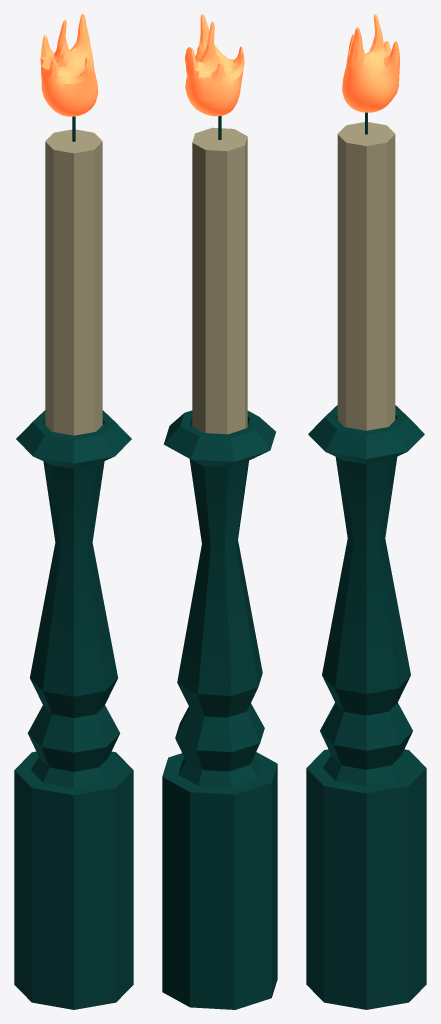
Rendered from Candelabro 3.fbx.
3 views of the same model, side by side, from view 1: azimuth 90°, elevation 25°; view 2: azimuth 150°, elevation 25°; view 3: azimuth 270°, elevation 25° (orthographic).
Parts seen in each view (by area): view 1: Candelabro piccolo.003; view 2: Candelabro piccolo.003; view 3: Candelabro piccolo.003.
Part boxes in pixels (<box>): Candelabro piccolo.003: <box>14,14,133,1009</box>; Candelabro piccolo.003: <box>162,14,277,1009</box>; Candelabro piccolo.003: <box>306,14,426,1009</box>.
Size of the model in its own units: 12.17 by 109 by 12.17.
